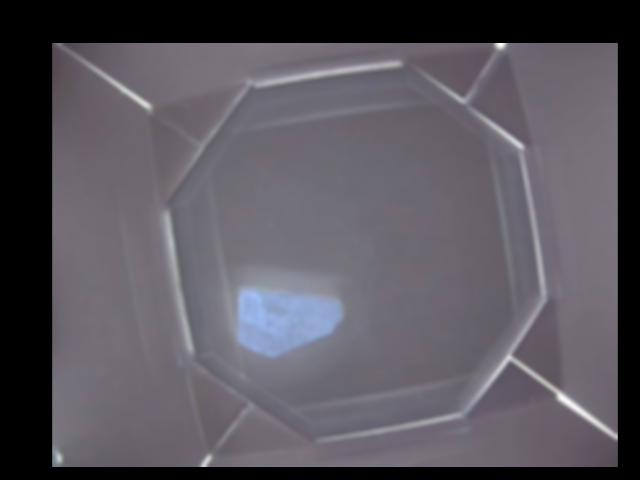China: (236, 285, 340, 352)
